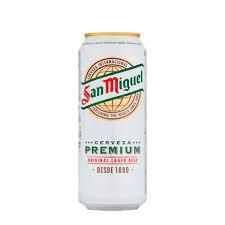beer: (76, 32, 150, 210)
